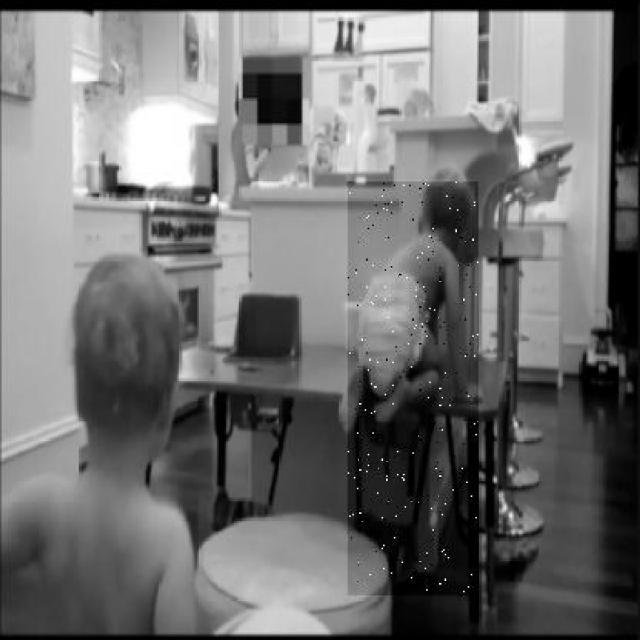child: (347, 182, 478, 596)
